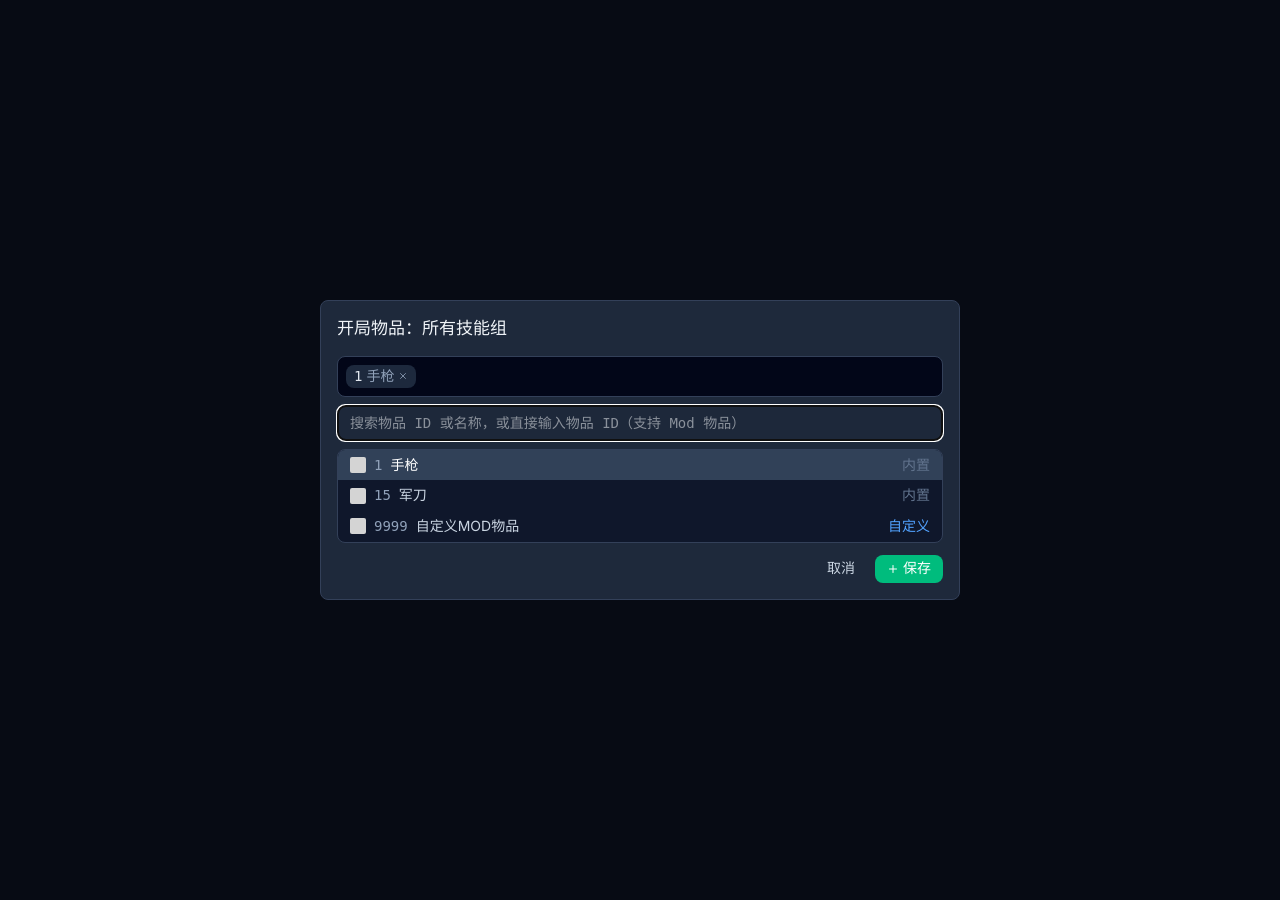
Test: LoadoutItemDialog — 物品选择 › 搜索过滤下拉 + 点击选项添加标签
The image size is (1280, 900).
Type "军刀" into the field with placeholder "搜索物品 ID 或名称，或直接输入物品 ID（支持 Mod 物品）".
click(640, 423); type("军刀")  # box [337, 405, 943, 441]
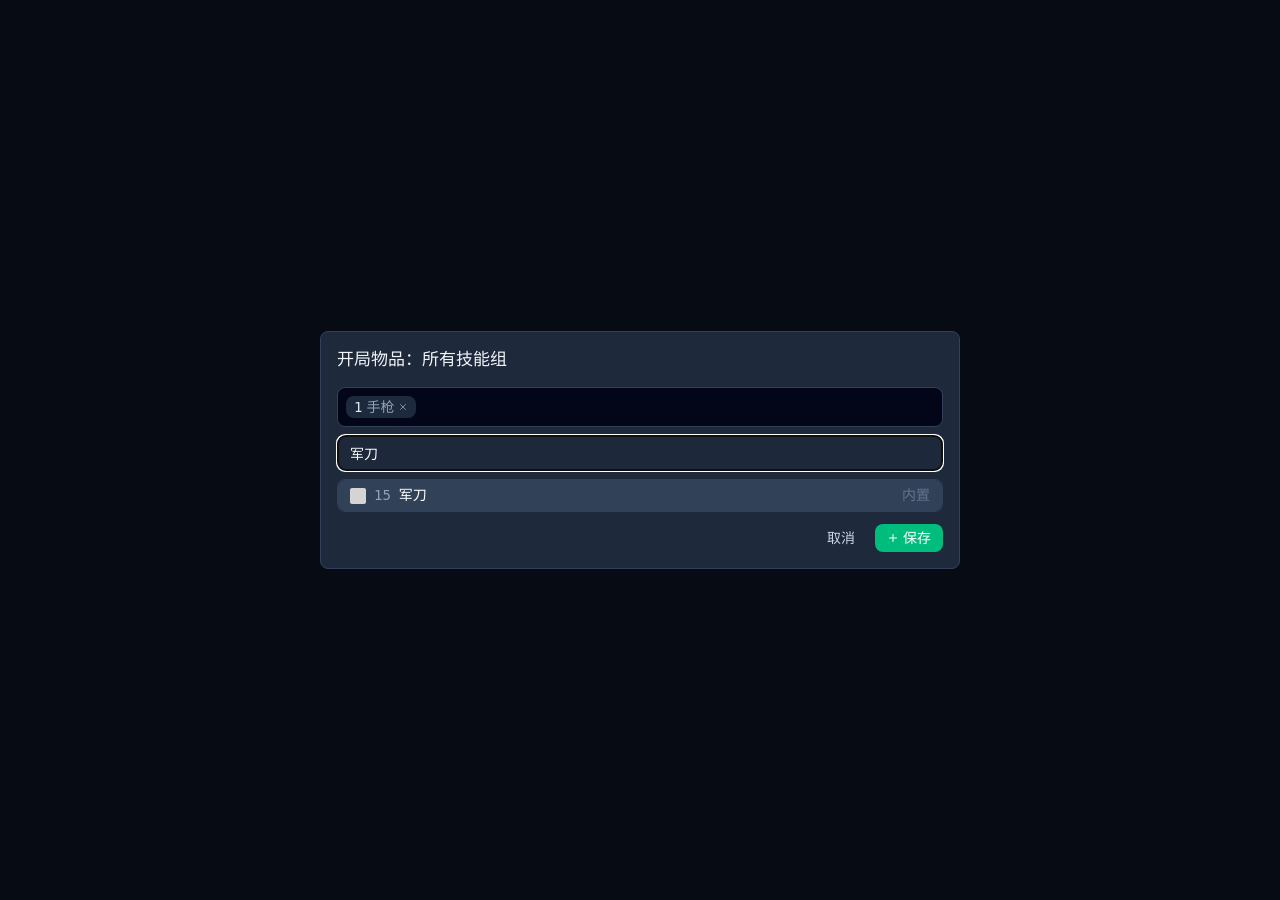
Click the text "军刀".
click(413, 496)  # box [399, 486, 427, 505]
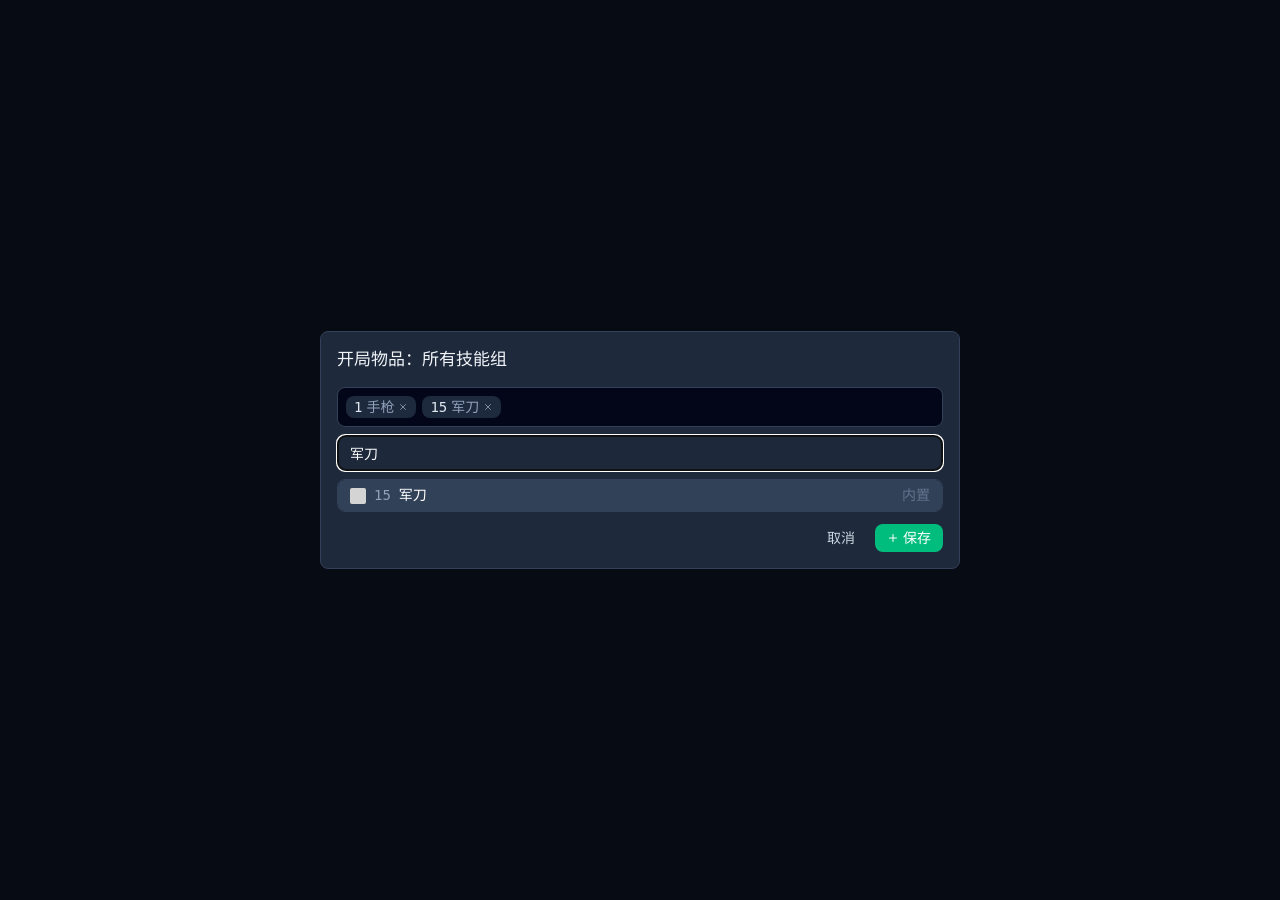
Check: the text "15" next to "手枪" is shown, box [430, 399, 447, 415]
Check: the text "军刀" in the row of "手枪" is shown, box [451, 399, 479, 415]
